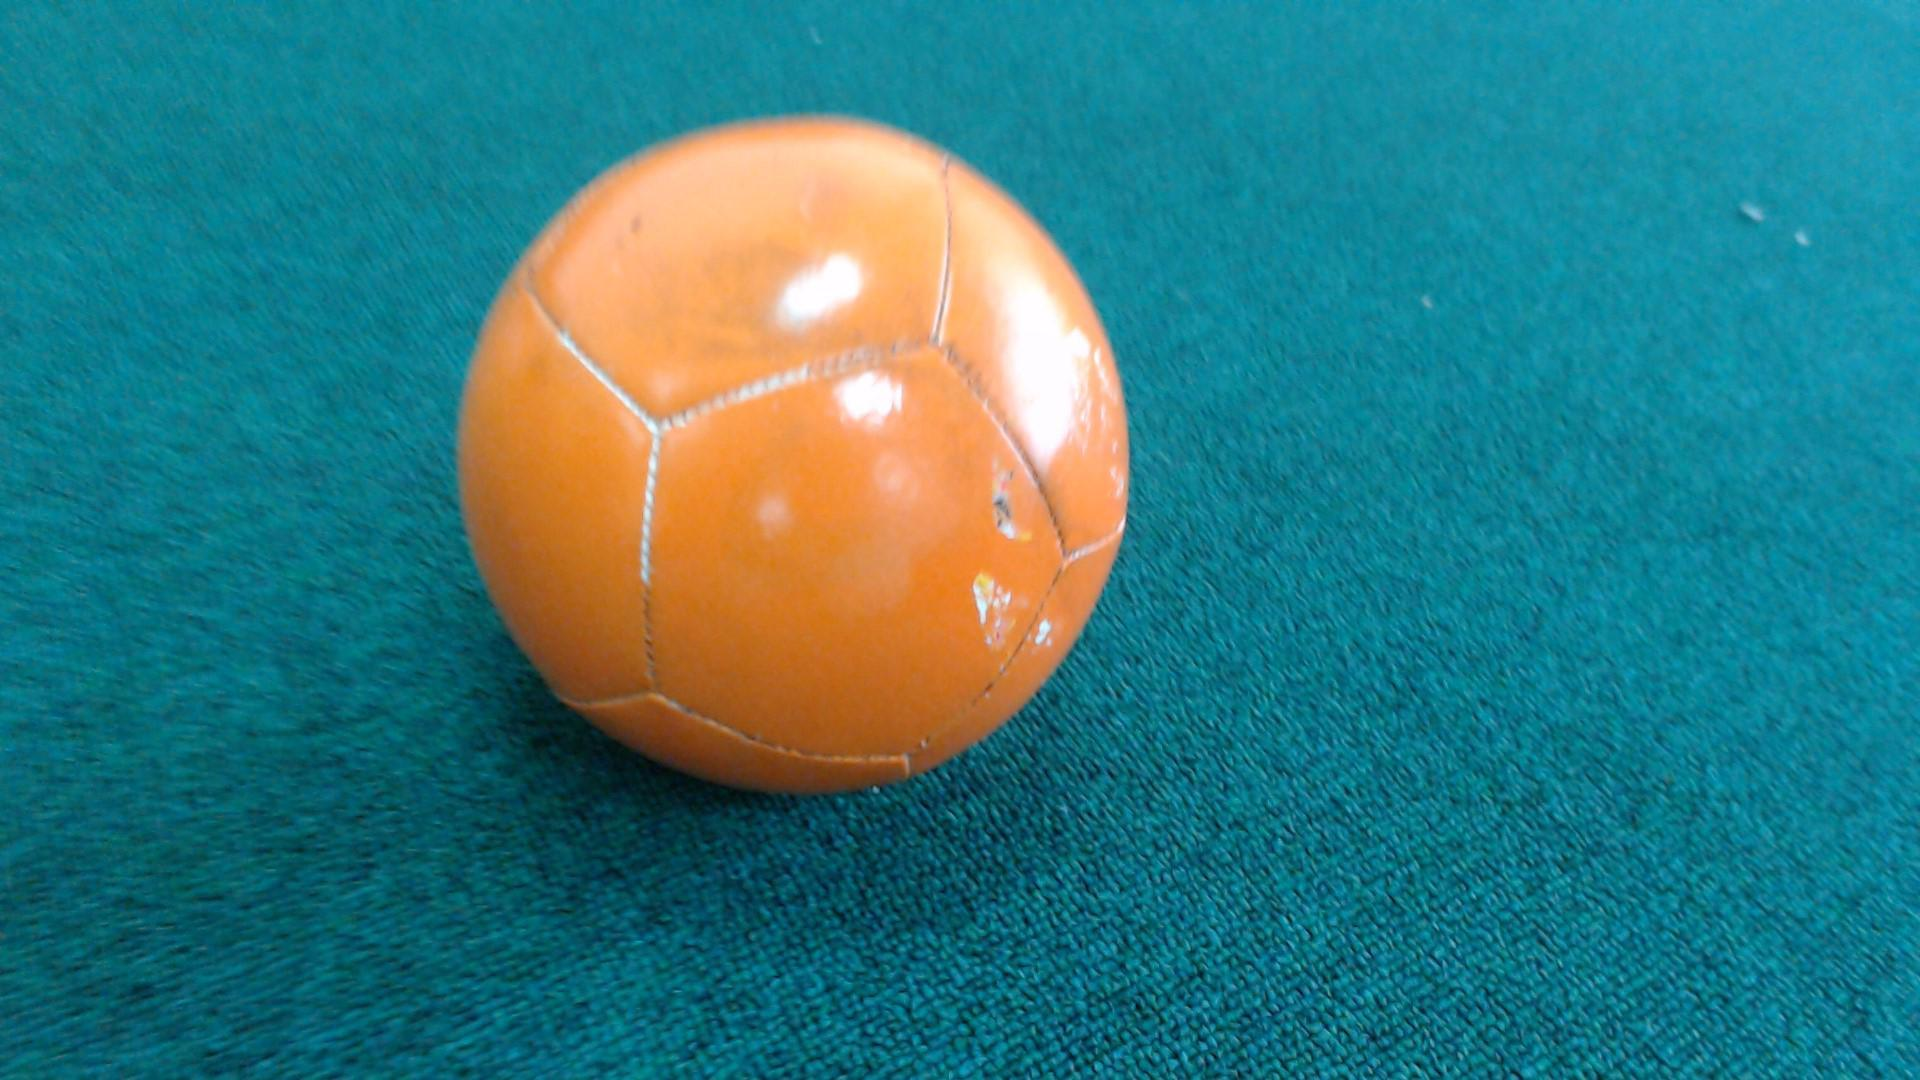bola: (409, 116, 1141, 815)
